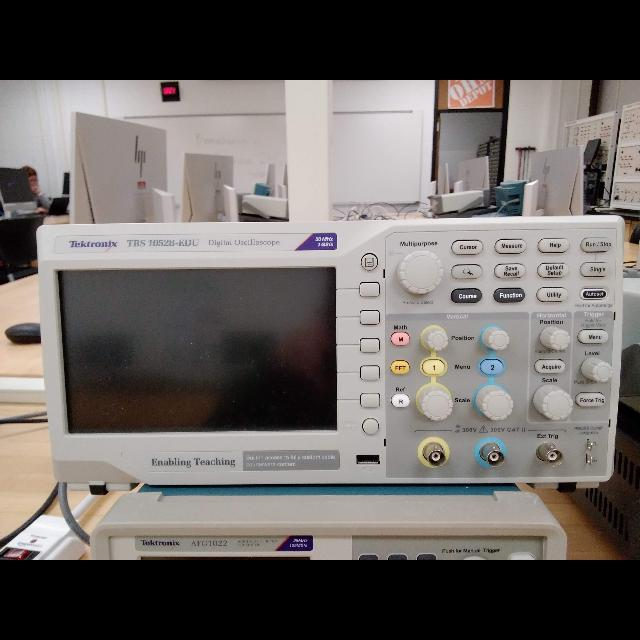Digital-Oscilloscope: (34, 217, 622, 483)
